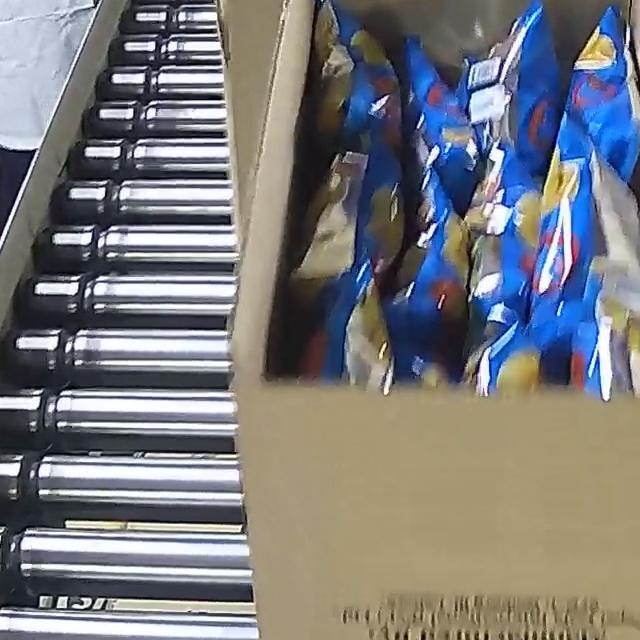paprika: (285, 0, 640, 400)
